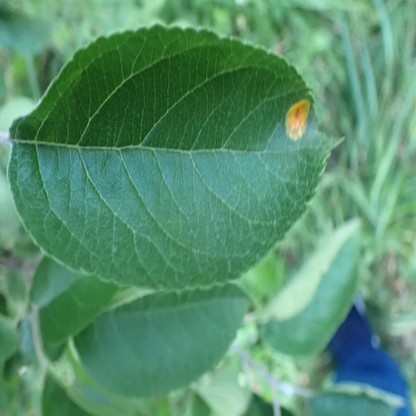rust: (286, 100, 309, 141)
